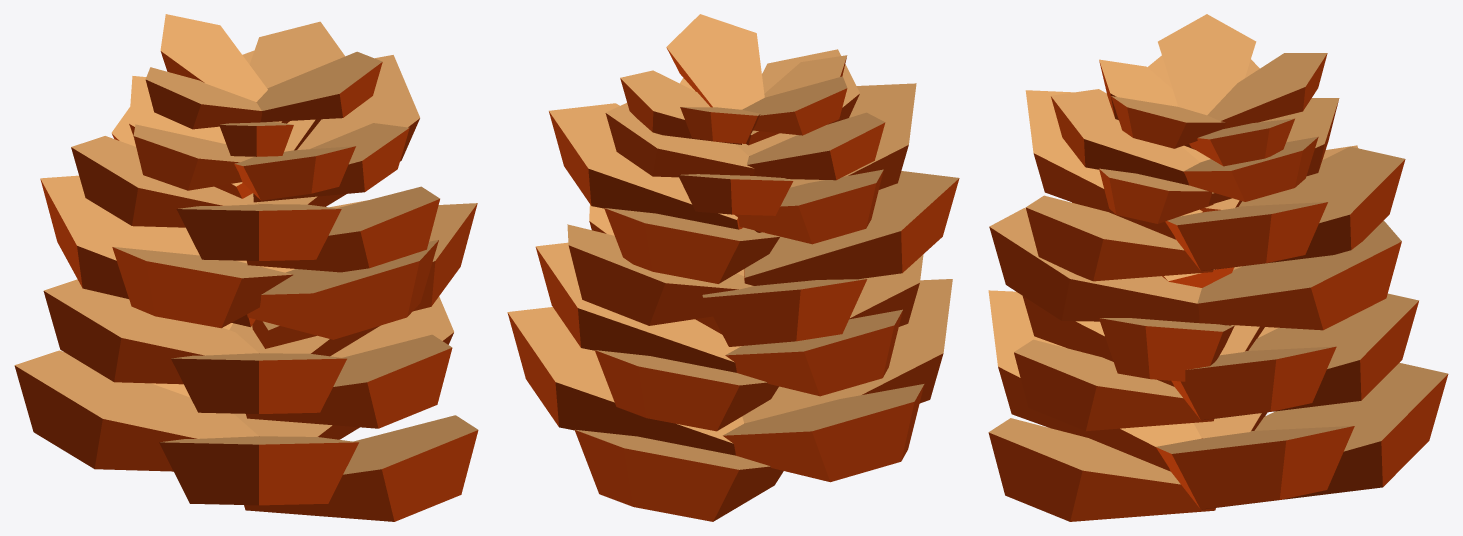
3 renders of one model, left to right at view 1: azimuth 30°, elevation 25°; view 2: azimuth 150°, elevation 25°; view 3: azimuth 270°, elevation 25°, orthographic. The views are drawn at different scales.
Visible parts, largest first — view 1: m_cone; view 2: m_cone; view 3: m_cone.
Part boxes in pixels (x1=…): m_cone: x1=14, y1=14, x2=478, y2=521; m_cone: x1=507, y1=14, x2=959, y2=521; m_cone: x1=988, y1=14, x2=1448, y2=521.
Bounding box in the file's own units: 30.93 × 31.55 × 30.28.
